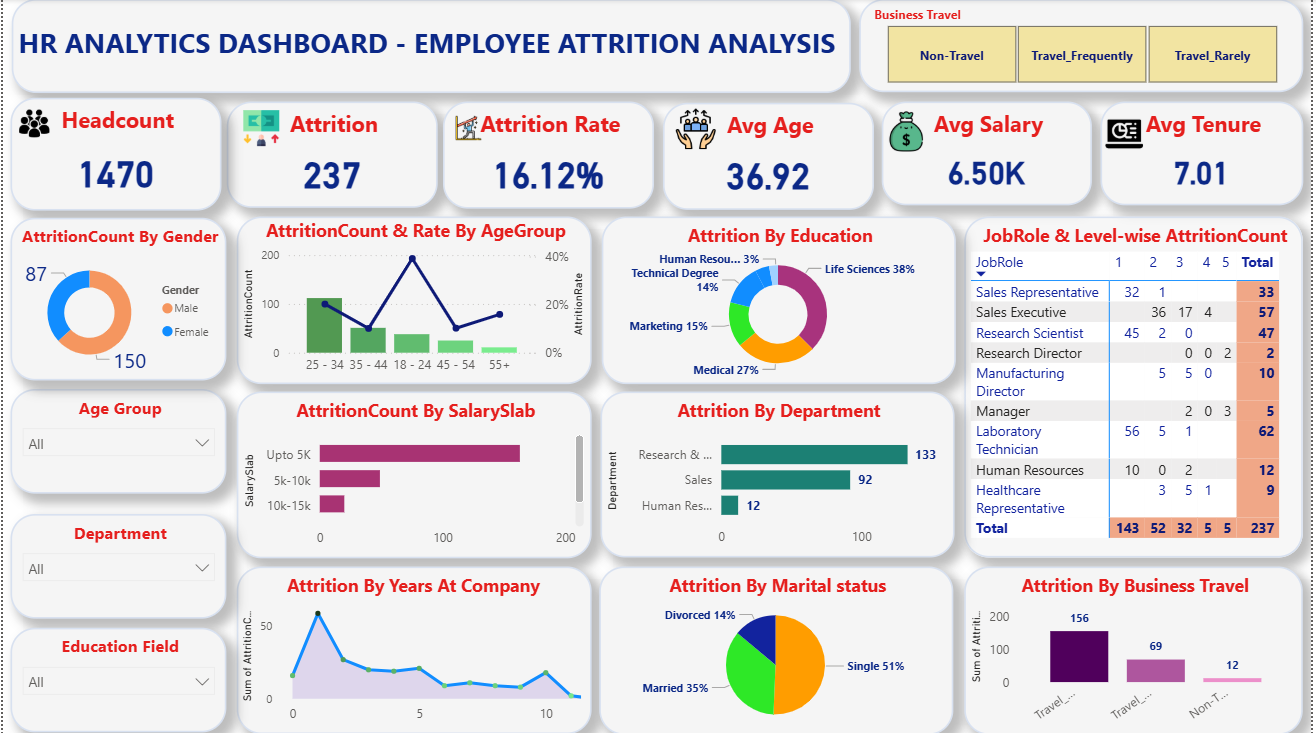

This screenshot's page, from the dashboard's own definition file:
{"tool":"powerbi","page":{"name":"Employee Attrition","canvas":[1280,720],"ordinal":0},"visuals":[{"type":"textbox","box":[8.6,0,820.5,91.7],"z":0},{"type":"image","box":[450,277.6,78.3,47.7],"z":1000},{"type":"slicer","title":"Business Travel","fields":{"Values":["HR_Project_Power BI.BusinessTravel"]},"box":[837.6,0,434.1,91],"z":2000},{"type":"card","title":"Attrition","fields":{"Values":["Sum(HR_Project_Power BI.AttritionCount)"]},"box":[218.9,100.3,206.7,103.9],"z":3000},{"type":"card","title":"Attrition Rate","fields":{"Values":["HR_Project_Power BI.AttritionRate"]},"box":[430.4,100.3,206.7,105.2],"z":4000},{"type":"card","title":"Avg Age","fields":{"Values":["Avg(HR_Project_Power BI.Age)"]},"box":[645.7,101.5,206.7,105.2],"z":5000},{"type":"card","title":"Avg Salary","fields":{"Values":["Avg(HR_Project_Power BI.MonthlyIncome)"]},"box":[859.7,100.3,205.4,101.5],"z":6000},{"type":"card","title":"Avg Tenure","fields":{"Values":["Avg(HR_Project_Power BI.YearsAtCompany)"]},"box":[1073.6,100.3,198.1,101.5],"z":7000},{"type":"lineClusteredColumnComboChart","title":"AttritionCount & Rate By AgeGroup","fields":{"Category":["HR_Project_Power BI.AgeGroup"],"Y":["Sum(HR_Project_Power BI.AttritionCount)"],"Y2":["HR_Project_Power BI.AttritionRate"]},"box":[228.7,212.8,347.3,163.9],"z":8000},{"type":"pivotTable","title":"JobRole & Level-wise AttritionCount","fields":{"Columns":["HR_Project_Power BI.JobLevel"],"Rows":["HR_Project_Power BI.JobRole"],"Values":["Sum(HR_Project_Power BI.AttritionCount)"]},"box":[940.4,212.8,331.4,333.8],"z":9000},{"type":"slicer","title":"Age Group","fields":{"Values":["HR_Project_Power BI.AgeGroup"]},"box":[7.3,381.5,211.6,102.7],"z":10000},{"type":"card","title":"Headcount","fields":{"Values":["Count(HR_Project_Power BI.EmployeeNumber)"]},"box":[7.3,96.6,206.7,110.1],"z":11000},{"type":"image","box":[11,94.2,39.1,55],"z":12000},{"type":"image","box":[228.7,103.9,47.7,45.2],"z":13000},{"type":"image","box":[437.8,96.6,35.5,58.7],"z":14000},{"type":"image","box":[651.8,100.3,52.6,53.8],"z":15000},{"type":"image","box":[858.4,105.2,50.1,48.9],"z":16000},{"type":"image","box":[1073.6,108.8,46.5,46.5],"z":17000},{"type":"donutChart","title":"AttritionCount By Gender","fields":{"Category":["HR_Project_Power BI.Gender"],"Y":["Sum(HR_Project_Power BI.AttritionCount)"]},"box":[7.3,214,211.6,159],"z":18000},{"type":"donutChart","title":"Attrition By Education","fields":{"Y":["Sum(HR_Project_Power BI.AttritionCount)"],"Category":["HR_Project_Power BI.EducationField","HR_Project_Power BI.YearsAtCompany"]},"box":[585.7,212.8,346.1,163.9],"z":19000},{"type":"barChart","title":"AttritionCount By SalarySlab","fields":{"Y":["Sum(HR_Project_Power BI.AttritionCount)"],"Category":["HR_Project_Power BI.SalarySlab"]},"box":[228.7,384,347,163],"z":20000},{"type":"areaChart","title":"Attrition By Years At Company","fields":{"Category":["HR_Project_Power BI.YearsAtCompany"],"Y":["Sum(HR_Project_Power BI.AttritionCount)"]},"box":[228.7,555.2,347.3,163.9],"z":21000},{"type":"barChart","title":"Attrition By Department","fields":{"Category":["HR_Project_Power BI.Department"],"Y":["Sum(HR_Project_Power BI.AttritionCount)"]},"box":[584.5,384,346.1,162.6],"z":22000},{"type":"pieChart","title":"Attrition By Marital status","fields":{"Y":["Sum(HR_Project_Power BI.AttritionCount)"],"Category":["HR_Project_Power BI.MaritalStatus"]},"box":[583.3,555.2,346.1,165.1],"z":23000},{"type":"columnChart","title":"Attrition By Business Travel","fields":{"Y":["Sum(HR_Project_Power BI.AttritionCount)"],"Category":["HR_Project_Power BI.BusinessTravel"]},"box":[940.4,555.2,331.4,165.1],"z":24000},{"type":"slicer","title":"Department","fields":{"Values":["HR_Project_Power BI.Department"]},"box":[7.3,503.8,211.6,102.7],"z":25000},{"type":"slicer","title":"Education Field","fields":{"Values":["HR_Project_Power BI.EducationField"]},"box":[7.3,615.1,211.6,102.7],"z":26000}]}

Visuals, with their boxes in screenshot pixels (x1, y1, x2, y2), scaled from the page's 1280x720 canvas onto the 1316x733 screenshot:
textbox: 9 0 852 93
image: 463 283 543 331
"Business Travel" slicer: 861 0 1307 93
"Attrition" card: 225 102 438 208
"Attrition Rate" card: 443 102 655 209
"Avg Age" card: 664 103 876 210
"Avg Salary" card: 884 102 1095 205
"Avg Tenure" card: 1104 102 1307 205
"AttritionCount & Rate By AgeGroup" lineClusteredColumnComboChart: 235 217 592 384
"JobRole & Level-wise AttritionCount" pivotTable: 967 217 1308 556
"Age Group" slicer: 8 388 225 493
"Headcount" card: 8 98 220 210
image: 11 96 52 152
image: 235 106 284 152
image: 450 98 487 158
image: 670 102 724 157
image: 883 107 934 157
image: 1104 111 1152 158
"AttritionCount By Gender" donutChart: 8 218 225 380
"Attrition By Education" donutChart: 602 217 958 384
"AttritionCount By SalarySlab" barChart: 235 391 592 557
"Attrition By Years At Company" areaChart: 235 565 592 732
"Attrition By Department" barChart: 601 391 957 556
"Attrition By Marital status" pieChart: 600 565 956 732
"Attrition By Business Travel" columnChart: 967 565 1308 732
"Department" slicer: 8 513 225 617
"Education Field" slicer: 8 626 225 731
